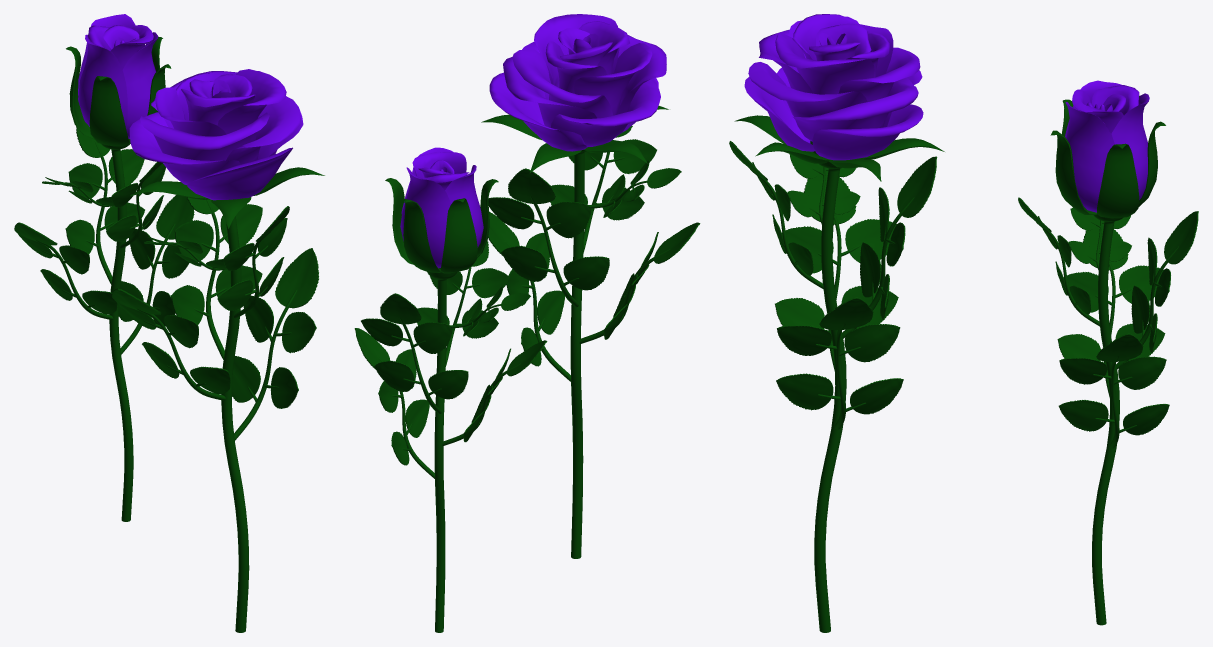
File: roses.fbx
The picture shows the model from 3 angles, left to right: view 1: azimuth 30°, elevation 25°; view 2: azimuth 150°, elevation 25°; view 3: azimuth 270°, elevation 25°; orthographic projection. The views are drawn at different scales.
Visible parts, largest first — view 1: bigroseleaves, bigrose, smallroseleaves, smallrose; view 2: bigroseleaves, bigrose, smallroseleaves, smallrose; view 3: bigroseleaves, bigrose, smallroseleaves, smallrose.
Part boxes in pixels (x1,y1,x2,y2): bigroseleaves: (112, 197, 318, 632); bigrose: (129, 69, 324, 232); smallroseleaves: (14, 126, 194, 521); smallrose: (66, 14, 171, 174); bigroseleaves: (488, 126, 700, 558); bigrose: (481, 14, 668, 176); smallroseleaves: (354, 240, 547, 632); smallrose: (385, 147, 498, 300); bigroseleaves: (729, 141, 937, 632); bigrose: (734, 14, 944, 199); smallroseleaves: (1018, 197, 1198, 625); smallrose: (1050, 80, 1165, 248).
Bounding box in the file's own units: 0.2795 × 0.6818 × 0.4913.
